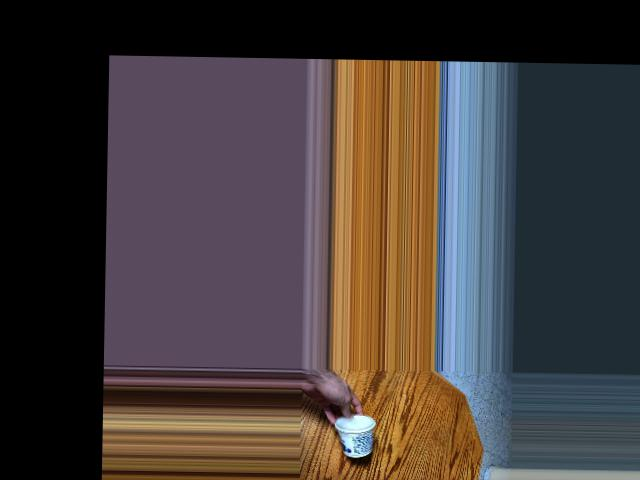cotage: (333, 407, 379, 452)
